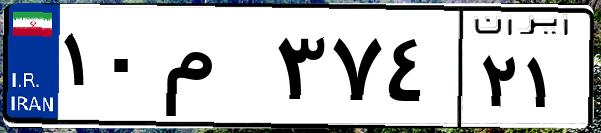0: (110, 28, 158, 98)
1: (57, 26, 110, 100), (525, 38, 570, 115)
2: (475, 38, 525, 113)
3: (270, 28, 330, 110)
4: (385, 28, 445, 110)
7: (330, 28, 385, 110)
م: (158, 20, 270, 120)
